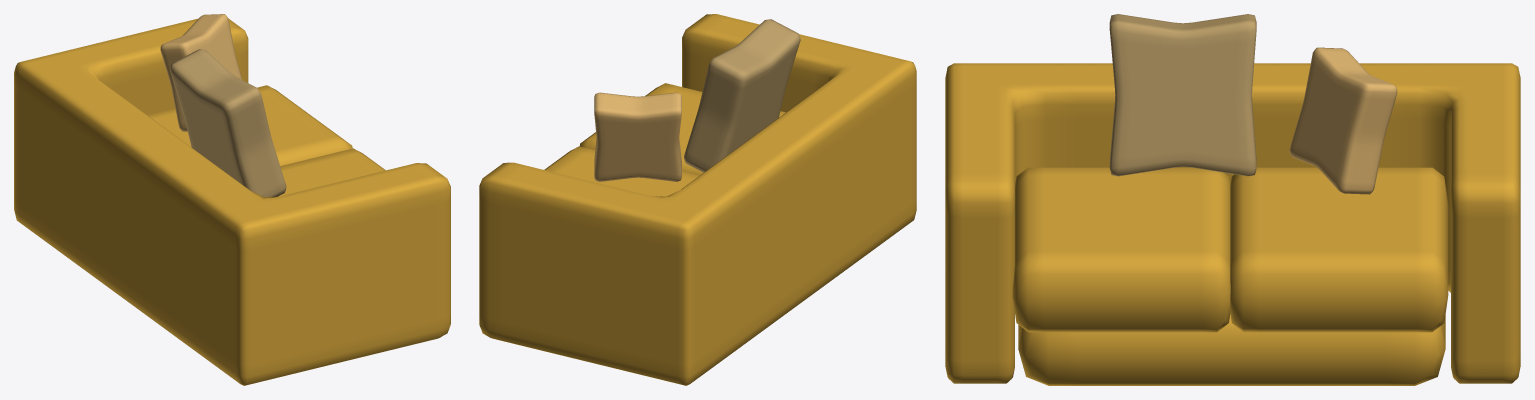
Rendered from sofa.fbx.
The picture shows the model from 3 angles, left to right: view 1: azimuth 30°, elevation 25°; view 2: azimuth 150°, elevation 25°; view 3: azimuth 270°, elevation 25°; orthographic projection. The views are drawn at different scales.
Parts seen in each view (by area): view 1: Box058, Box057, Box059; view 2: Box058, Box057, Box059; view 3: Box058, Box057, Box059.
Part boxes in pixels (left/top/right/bottom): Box058: left=14, top=18, right=450, bottom=385; Box057: left=170, top=49, right=286, bottom=196; Box059: left=160, top=14, right=242, bottom=131; Box058: left=479, top=14, right=916, bottom=385; Box057: left=684, top=19, right=800, bottom=172; Box059: left=594, top=92, right=681, bottom=181; Box058: left=945, top=63, right=1520, bottom=385; Box057: left=1109, top=14, right=1256, bottom=176; Box059: left=1289, top=47, right=1397, bottom=194.
Bounding box in the file's own units: 205 × 194 × 351.
